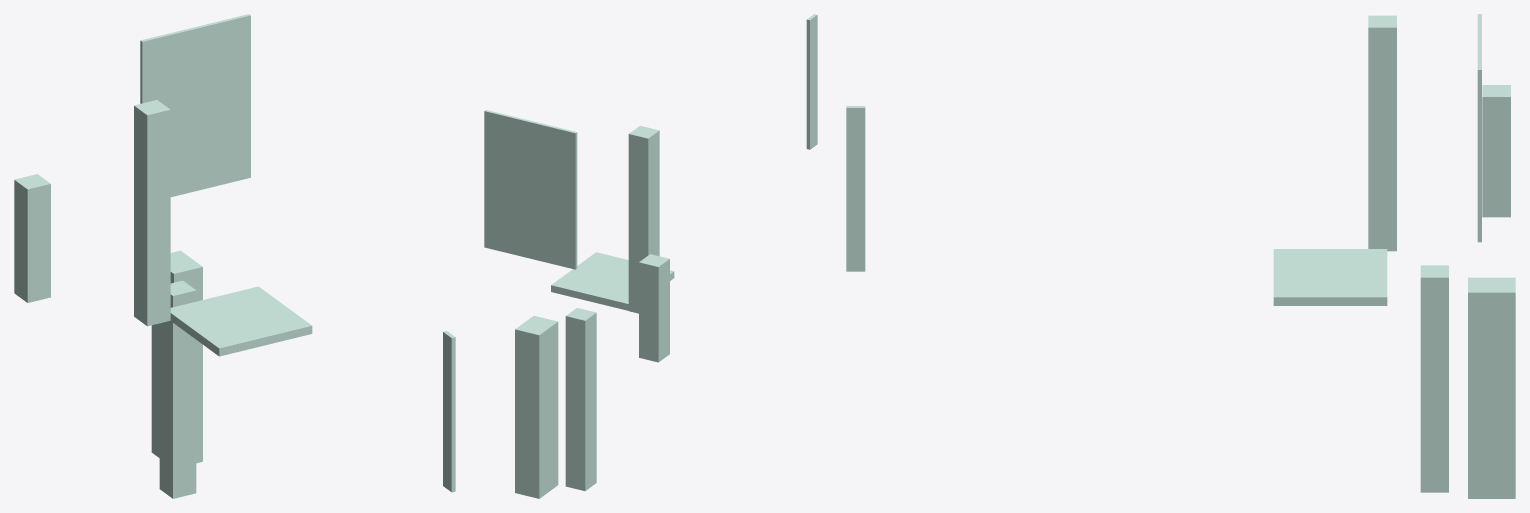
3 renders of one model, left to right at view 1: azimuth 30°, elevation 25°; view 2: azimuth 150°, elevation 25°; view 3: azimuth 270°, elevation 25°, orthographic. The views are drawn at different scales.
Visible parts, largest first — view 1: Renderer Node; view 2: Renderer Node; view 3: Renderer Node.
Boxes of the visible parts, box(x1,y1,x2,y2) form: Renderer Node: box(14, 14, 455, 498); Renderer Node: box(484, 14, 817, 498); Renderer Node: box(846, 14, 1515, 498).
Bounding box in the file's own units: 0.4453 × 0.8438 × 1.1.
